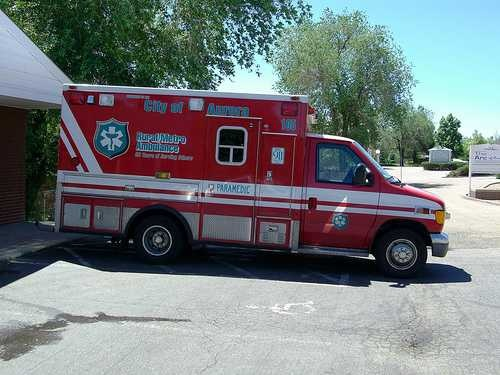Fire Truck: (49, 73, 456, 267)
